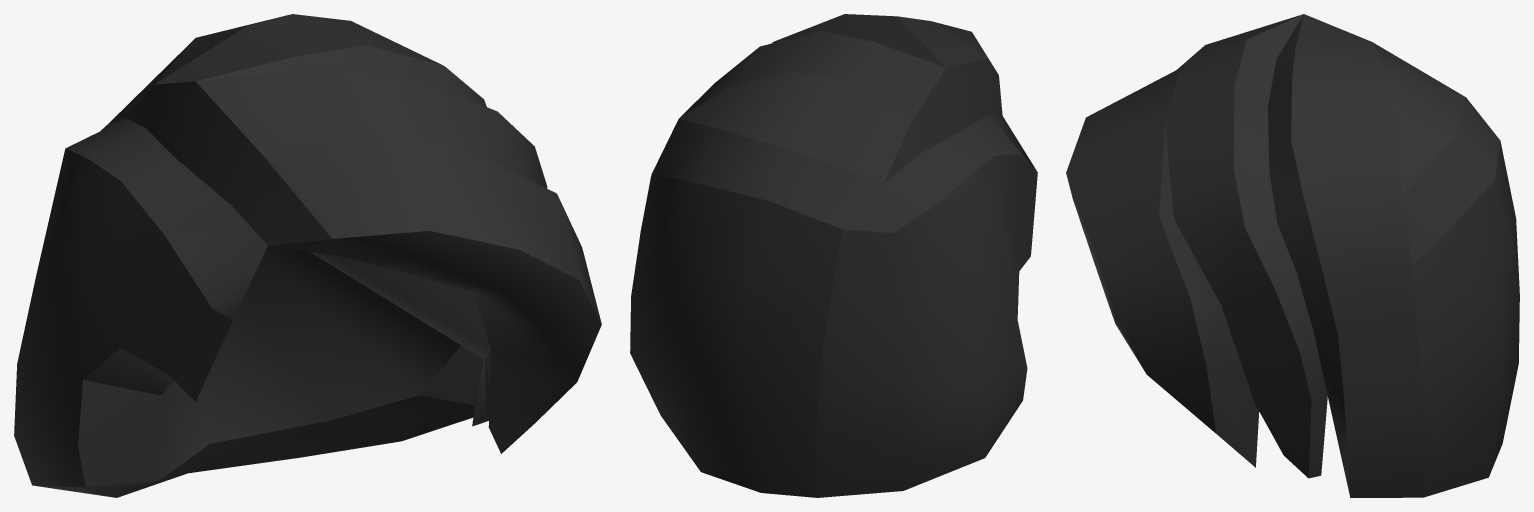
The model's file is Female_Hairs_06.fbx.
The picture shows the model from 3 angles, left to right: view 1: azimuth 30°, elevation 25°; view 2: azimuth 150°, elevation 25°; view 3: azimuth 270°, elevation 25°; orthographic projection. The views are drawn at different scales.
Parts seen in each view (by area): view 1: Female_Hairs_06; view 2: Female_Hairs_06; view 3: Female_Hairs_06.
Part boxes in pixels (bbox=[...]): Female_Hairs_06: bbox=[14, 14, 601, 497]; Female_Hairs_06: bbox=[630, 14, 1037, 497]; Female_Hairs_06: bbox=[1066, 14, 1519, 497].
Bounding box in the file's own units: 65.75 × 68.56 × 69.7.
